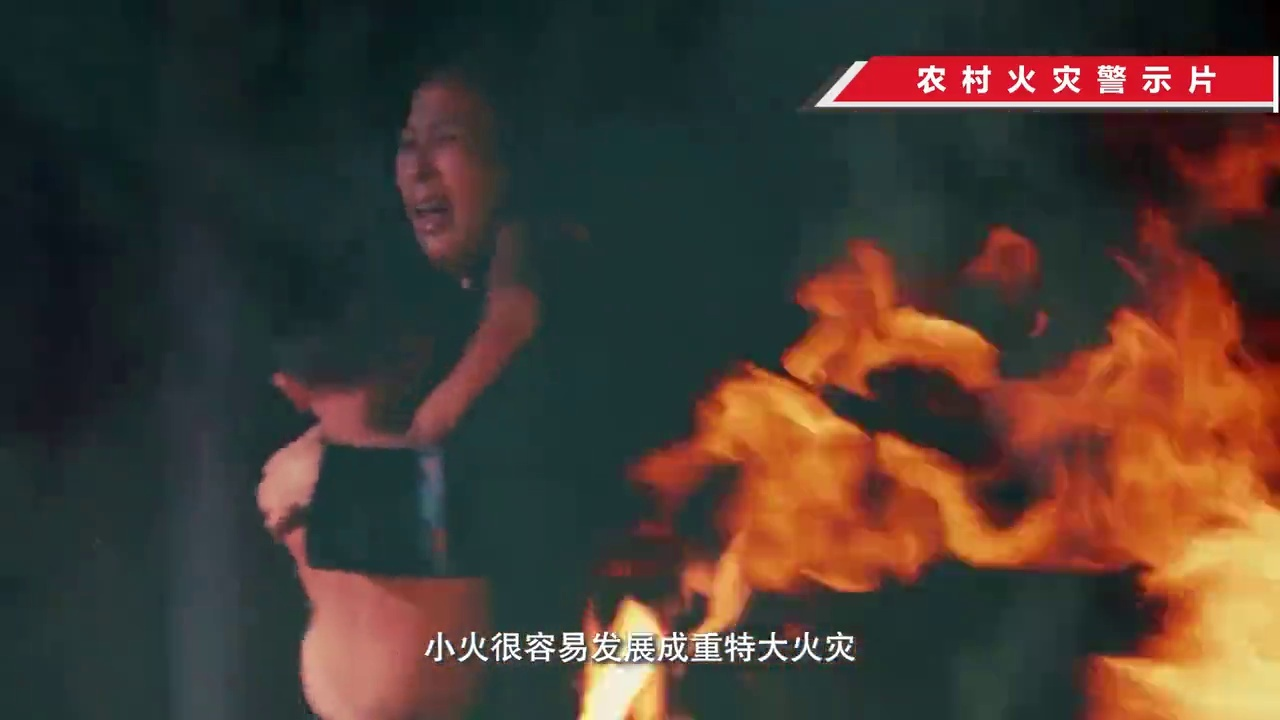fire: (576, 125, 1280, 720)
